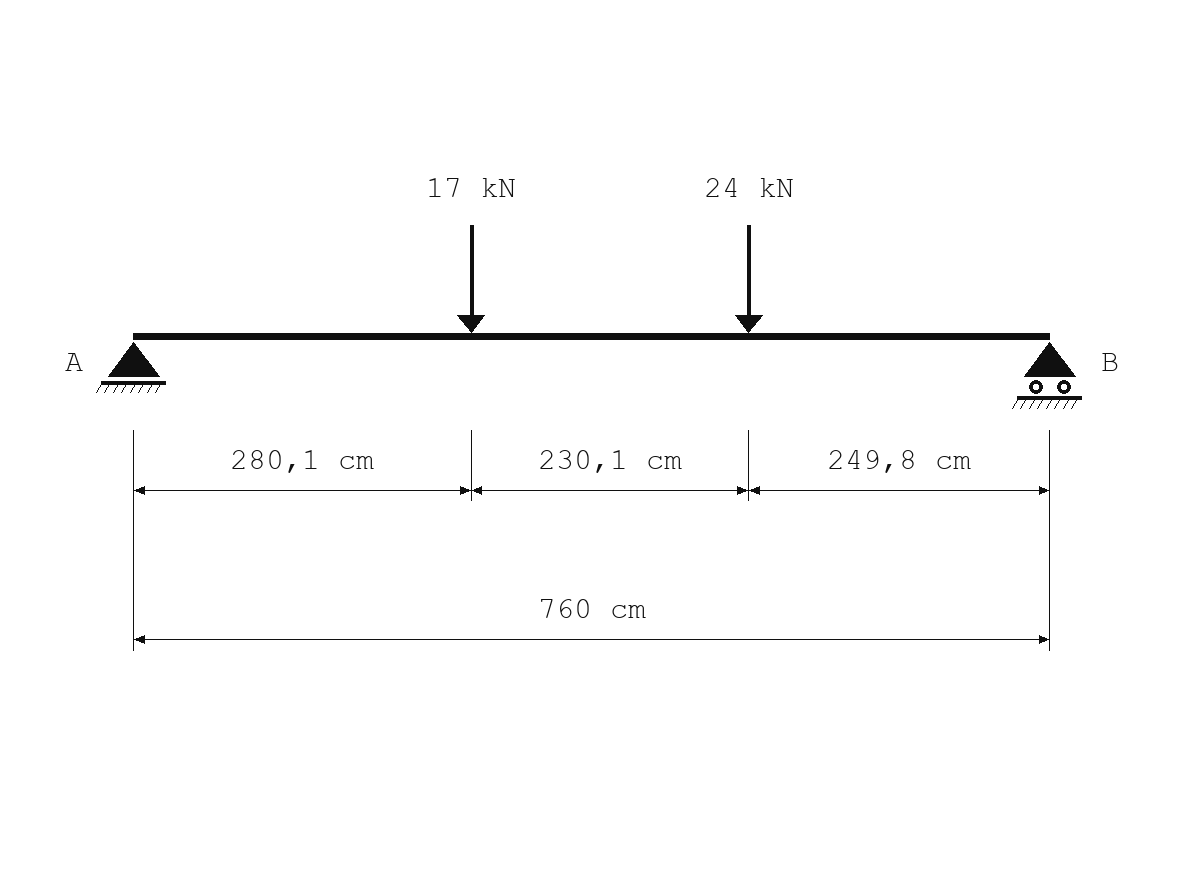pin_support: (96, 342, 166, 393)
point_load: (457, 225, 485, 333), (735, 225, 763, 333)
roller_support: (1012, 342, 1082, 409)
